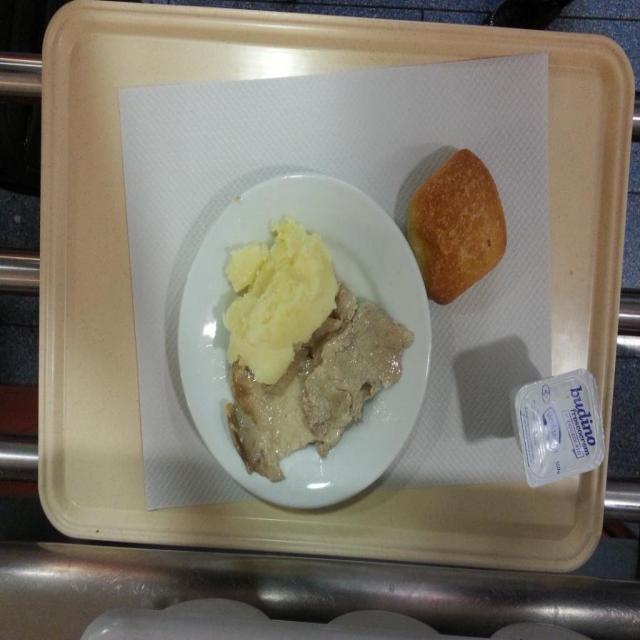plate: (178, 174, 430, 506), (402, 146, 510, 308)
